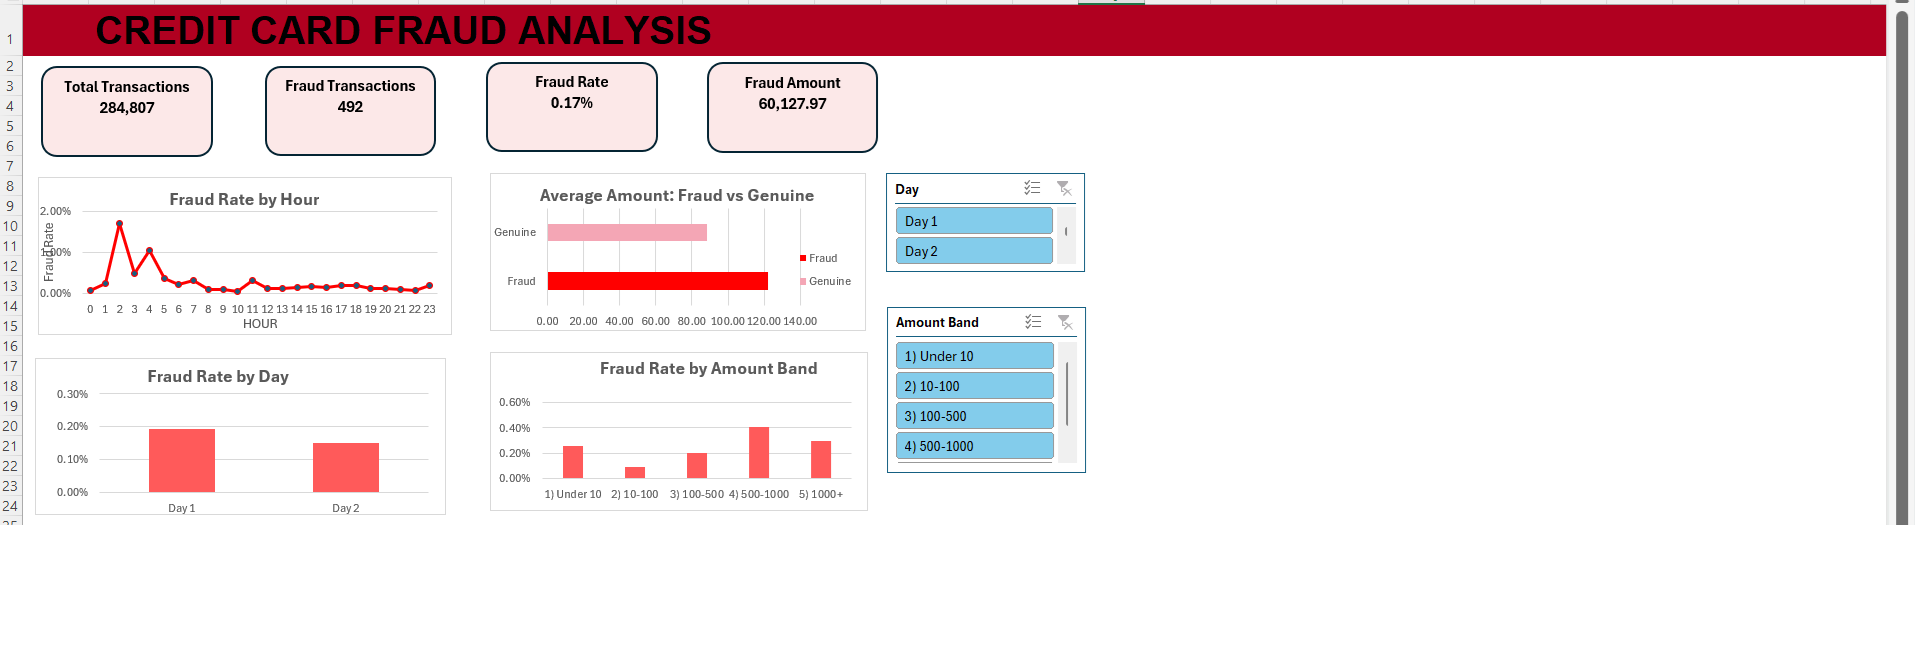

Layout of this report page (visuals, bound fields, positions):
{"tool":"powerbi","page":{"name":"Page 1","canvas":[1920,1080],"ordinal":0},"visuals":[{"type":"textbox","box":[0,0,1918.3,162.2],"z":0},{"type":"shape","box":[33.4,178.9,307.8,885.2],"z":1000},{"type":"textbox","box":[45.3,219.5,198,54.9],"z":2000},{"type":"image","box":[243.4,200.4,47.7,90.7],"z":3000},{"type":"image","box":[0,0,374.6,162.2],"z":7000},{"type":"lineClusteredColumnComboChart","title":"Fraud Rate by Hour","fields":{"Category":["creditcard.Hour"],"Y":["creditcard.Fraud Rate"]},"box":[374.6,377,732.5,346],"z":9000},{"type":"image","box":[33.4,722.9,307.8,341.2],"z":10000},{"type":"lineClusteredColumnComboChart","title":" Amount Band: Fraud count and rate","fields":{"Category":["creditcard.Amount Band "],"Y":["creditcard.Fraud Transactions"],"Y2":["creditcard.Fraud Rate"]},"box":[1145.2,379.4,739.6,346],"z":11000},{"type":"donutChart","title":"Share of fraud by Day","fields":{"Category":["creditcard.Day"],"Y":["creditcard.Fraud Transactions"]},"box":[374.6,753.9,732.5,293.5],"z":12000},{"type":"clusteredBarChart","title":" Average amount","fields":{"Category":["creditcard.Class label"],"Y":["creditcard.Avg Amount"]},"box":[1145.2,753.9,739.6,293.5],"z":13000},{"type":"slicer","fields":{"Values":["creditcard.Amount Band "]},"box":[45.3,539.2,272,152.7],"z":13002},{"type":"slicer","fields":{"Values":["creditcard.Day"]},"box":[45.3,353.1,272,112.1],"z":13003},{"type":"cardVisual","fields":{"Data":["creditcard.Total Transactions"]},"box":[374.6,174.2,360,153],"z":13004},{"type":"cardVisual","fields":{"Data":["creditcard.Fraud Amount"]},"box":[1515.1,174.2,360,153],"z":13005},{"type":"cardVisual","fields":{"Data":["creditcard.Fraud Rate"]},"box":[1145.2,174.2,360,152.7],"z":13006},{"type":"cardVisual","fields":{"Data":["creditcard.Fraud Transactions"]},"box":[742,174.2,360,152.7],"z":13007},{"type":"image","box":[1338.5,200.4,155.1,88.3],"z":13008},{"type":"image","box":[1581.9,0,303,162.2],"z":13009},{"type":"image","box":[618,195.6,155.1,78.7],"z":13010},{"type":"image","box":[1021.2,178.9,85.9,100.2],"z":13011},{"type":"image","box":[1768,178.9,90.7,119.3],"z":13012}]}

Visuals, with their boxes on the page's 1920x1080 design canvas (x1, y1, x2, y2). These are canvas units, not pixel positions in the 1915x648 screenshot, which may show the page scaled, cropped or inside an application window:
textbox: detection(0, 0, 1918, 162)
shape: detection(33, 179, 341, 1064)
textbox: detection(45, 220, 243, 274)
image: detection(243, 200, 291, 291)
image: detection(0, 0, 375, 162)
"Fraud Rate by Hour" lineClusteredColumnComboChart: detection(375, 377, 1107, 723)
image: detection(33, 723, 341, 1064)
" Amount Band: Fraud count and rate" lineClusteredColumnComboChart: detection(1145, 379, 1885, 725)
"Share of fraud by Day" donutChart: detection(375, 754, 1107, 1047)
" Average amount" clusteredBarChart: detection(1145, 754, 1885, 1047)
slicer - creditcard.Amount Band : detection(45, 539, 317, 692)
slicer - creditcard.Day: detection(45, 353, 317, 465)
cardVisual - creditcard.Total Transactions: detection(375, 174, 735, 327)
cardVisual - creditcard.Fraud Amount: detection(1515, 174, 1875, 327)
cardVisual - creditcard.Fraud Rate: detection(1145, 174, 1505, 327)
cardVisual - creditcard.Fraud Transactions: detection(742, 174, 1102, 327)
image: detection(1338, 200, 1494, 289)
image: detection(1582, 0, 1885, 162)
image: detection(618, 196, 773, 274)
image: detection(1021, 179, 1107, 279)
image: detection(1768, 179, 1859, 298)
